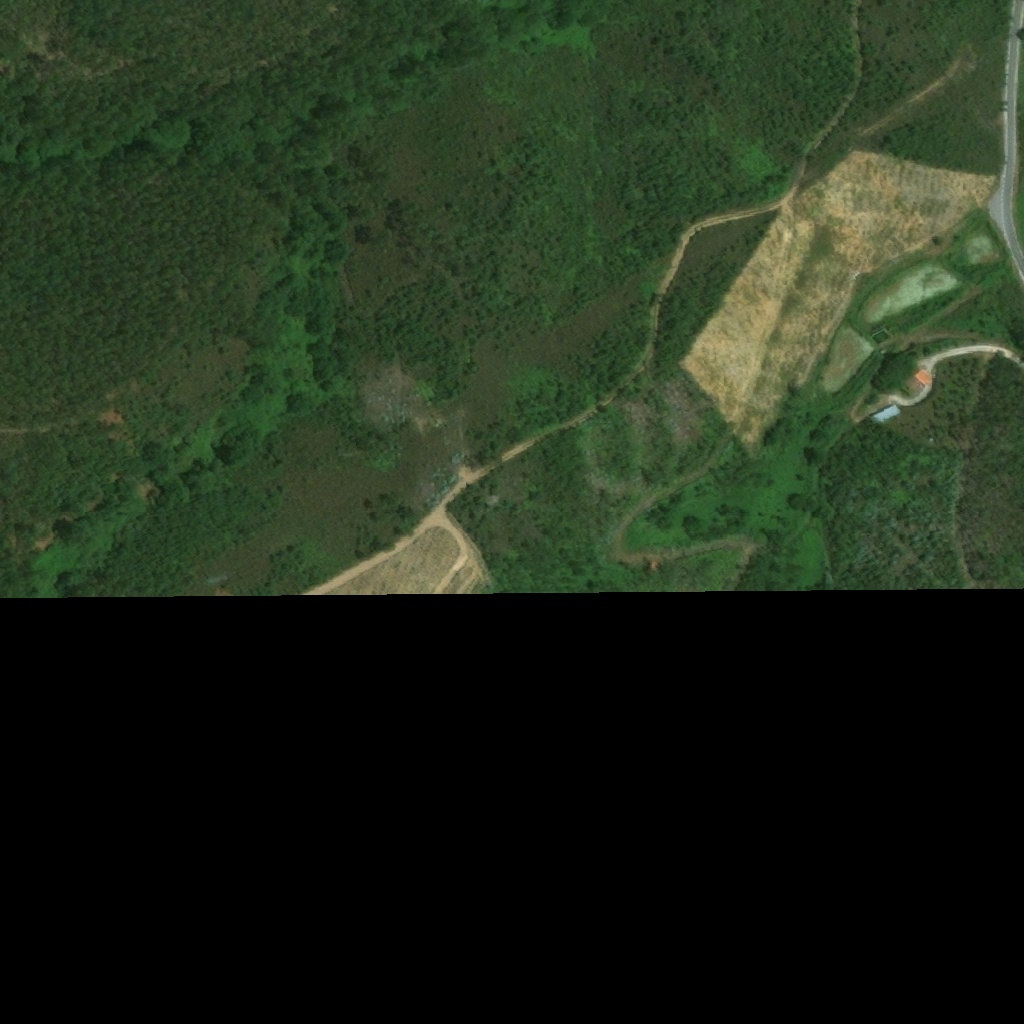0 no-damage: (902, 370, 929, 396), (870, 405, 901, 426)
